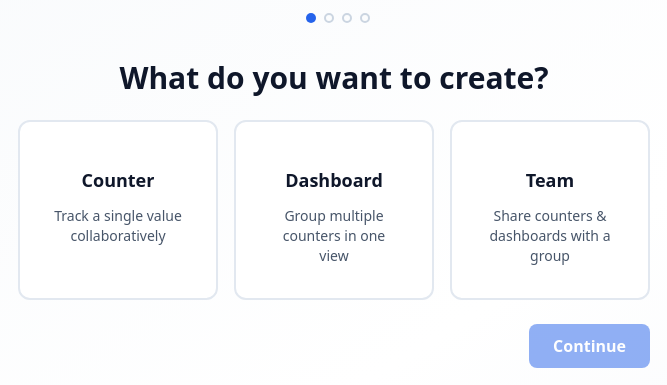
Scenario: Create page › owner step › keeps no default visibility for personal ownership
Click the button "Counter Track a single value collaboratively": (118, 210) [18,120,218,300]
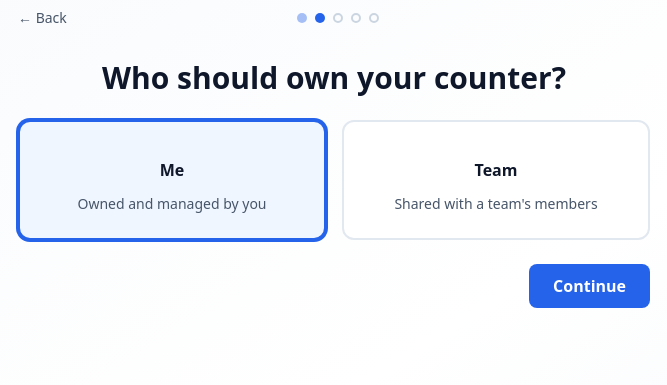
Expected: the number of headings is 1, [102,57,566,98]
Result: the heading reads "Who should own your counter?" at [102,57,566,98]
Click the button "Me Owned and managed by you": (172, 180) [18,120,326,240]
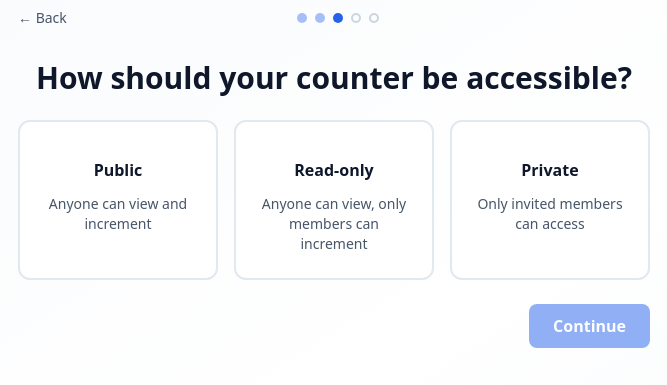
Expected: the number of headings is 1, [18,60,650,96]
Result: the heading shows "How should your counter be accessible" at [36,57,632,98]
